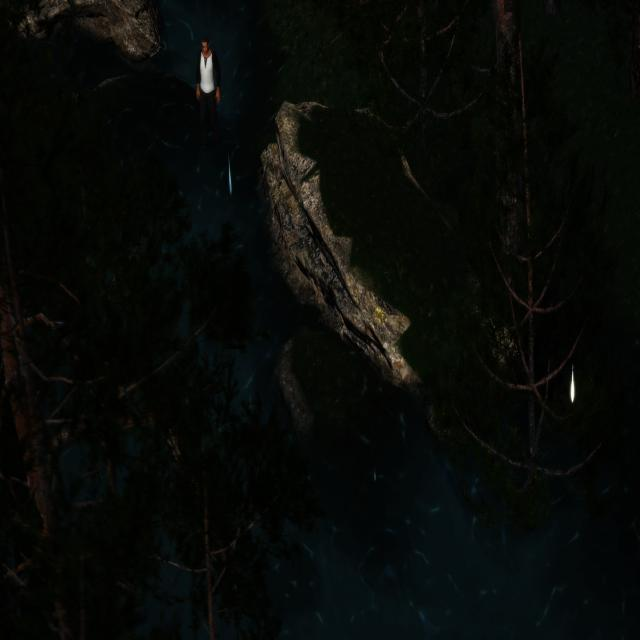Human: (190, 35, 228, 173)
